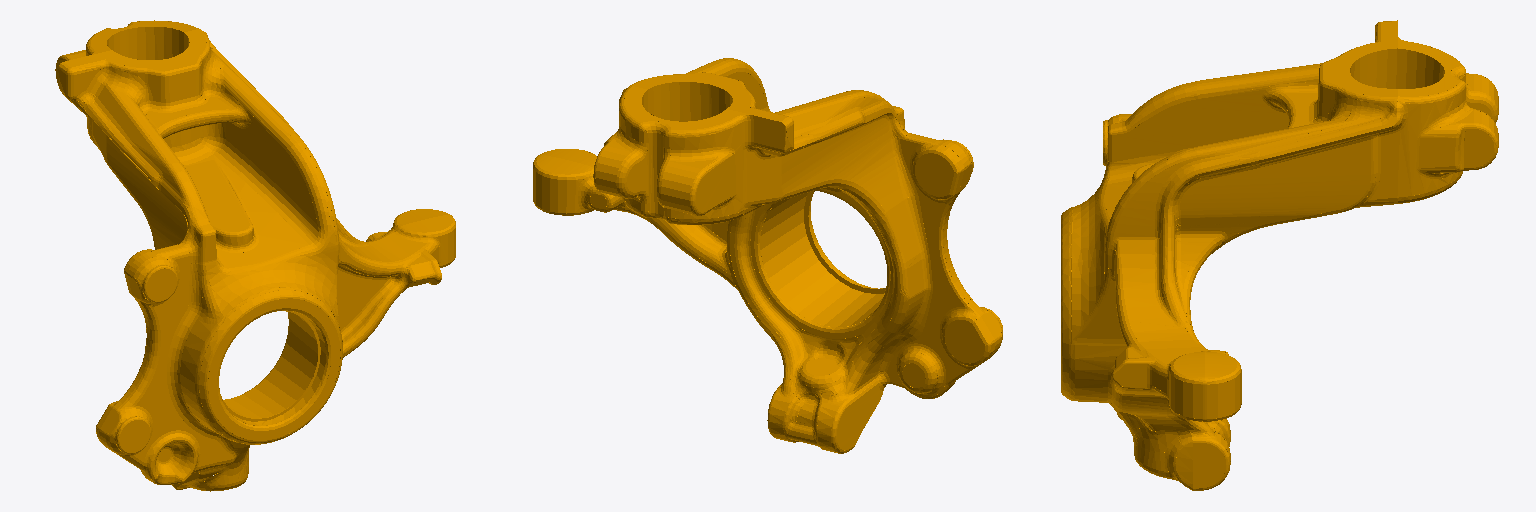
URDF robot description (wheelPivot_left):
<robot
  name="wheelPivot_left">
  <link name="wheelPivot">
    <inertial>
      <origin xyz="0.0 0.0 0.0" rpy="0 0 0"/>
      <mass value="2.5"/>
      <inertia ixx="1" ixy="0.0" ixz="0.0" iyy="1" iyz="0.0" izz="1" />
    </inertial>

    <visual>
      <geometry>
        <mesh filename="../meshes/PSA/wheelPivot_left.obj" scale="1 1 1" />
      </geometry>
     </visual>

    <collision>
      <geometry>
        <mesh filename="../meshes/PSA/wheelPivot_left.obj" scale="1 1 1" />
      </geometry>
    </collision>

  </link>
</robot>

--- What the picture shows (computed from the rendered views, not written in the file) ---
The picture shows the robot from 3 angles, left to right: view 1: azimuth 30°, elevation 25°; view 2: azimuth 150°, elevation 25°; view 3: azimuth 270°, elevation 25°; orthographic projection.
Robot: wheelPivot_left — 1 links, 0 joints (none); root link wheelPivot; default pose: every joint at zero.
Visible links, largest first — view 1: wheelPivot; view 2: wheelPivot; view 3: wheelPivot.
Link boxes in pixels (<box>): wheelPivot: <box>55,20,455,491</box>; wheelPivot: <box>533,58,1002,453</box>; wheelPivot: <box>1061,20,1498,490</box>.
Bounding box of the posed robot: 0.2238 × 0.1926 × 0.2054 m (x, y, z).
1 mesh visuals loaded from 1 distinct referenced files (1 OBJ).